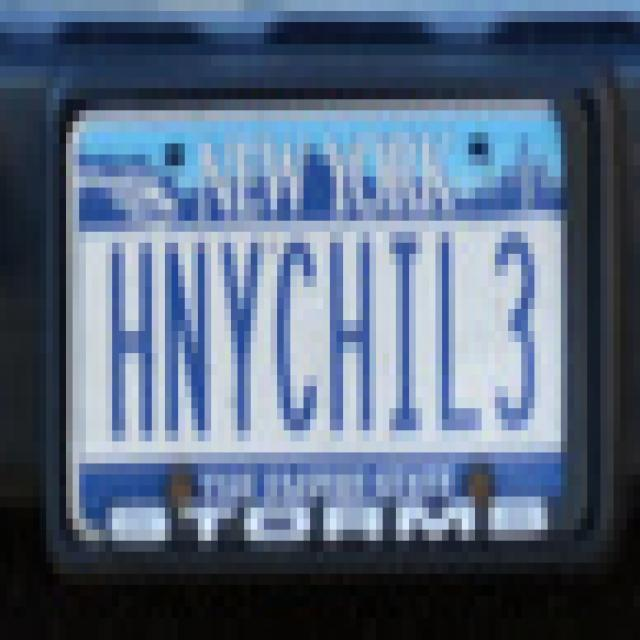3: (488, 219, 548, 436)
C: (272, 222, 324, 453)
H: (322, 223, 380, 444), (104, 224, 156, 448)
I: (382, 218, 434, 450)
L: (431, 220, 492, 453)
N: (158, 225, 214, 452)
Y: (216, 224, 266, 452)
